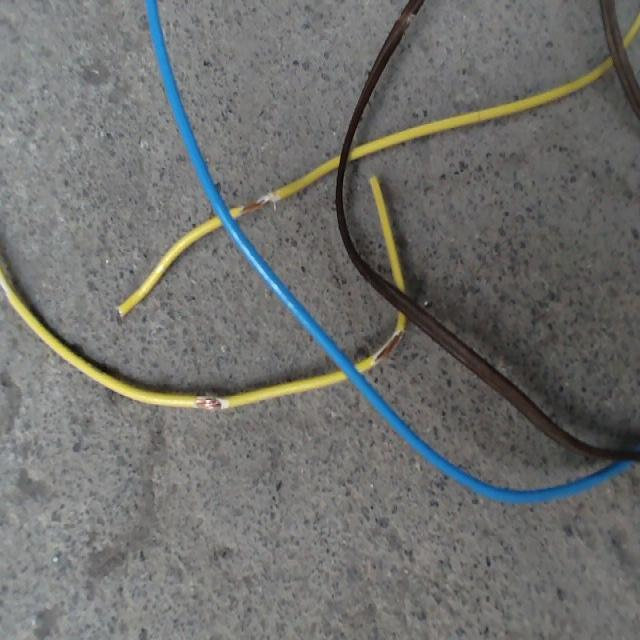-: (373, 327, 402, 365), (239, 190, 275, 214), (190, 392, 224, 413)
